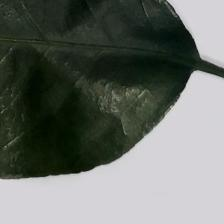healthy: (0, 0, 193, 216)
